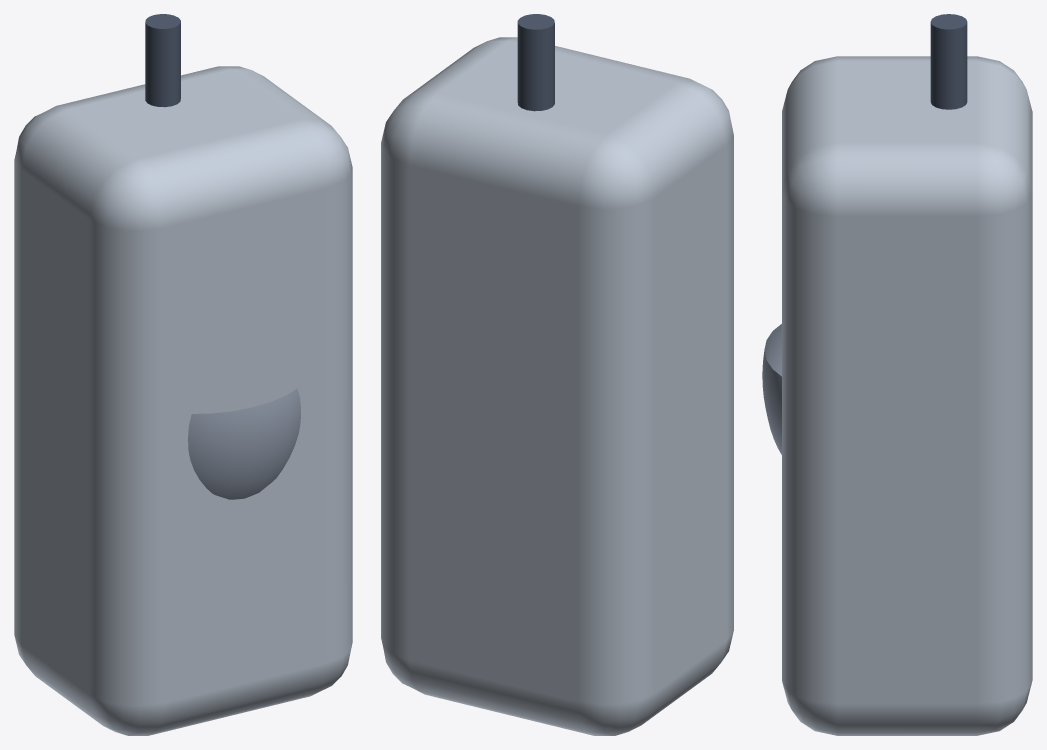
File: urinal.glb
3 renders of one model, left to right at view 1: azimuth 30°, elevation 25°; view 2: azimuth 150°, elevation 25°; view 3: azimuth 270°, elevation 25°, orthographic. The views are drawn at different scales.
Parts seen in each view (by area): view 1: urinal; view 2: urinal; view 3: urinal.
Part boxes in pixels (left/top/right/bottom): urinal: left=14, top=14, right=352, bottom=735; urinal: left=381, top=14, right=733, bottom=735; urinal: left=762, top=14, right=1032, bottom=735.
Bounding box in the file's own units: 0.2964 × 0.72 × 0.2638.
